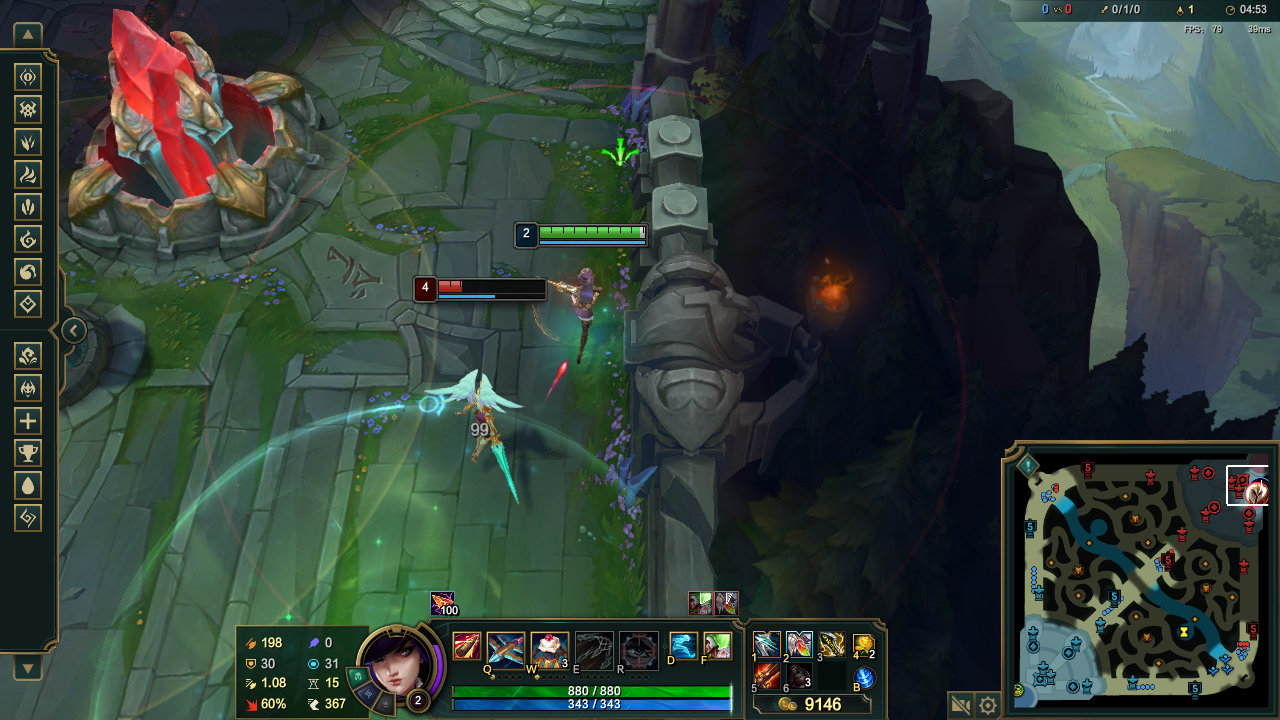DFDSJ: (82, 33, 314, 242)
DFYX: (439, 279, 546, 294)
